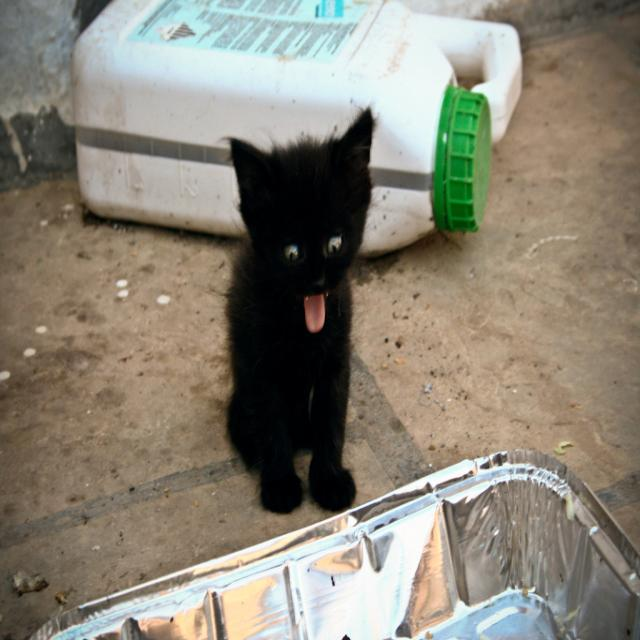cat: (198, 97, 426, 538)
